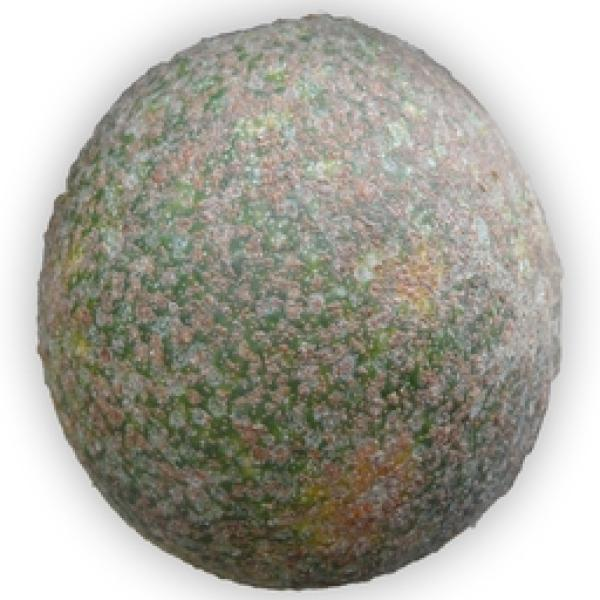Scab: (30, 8, 576, 584)
